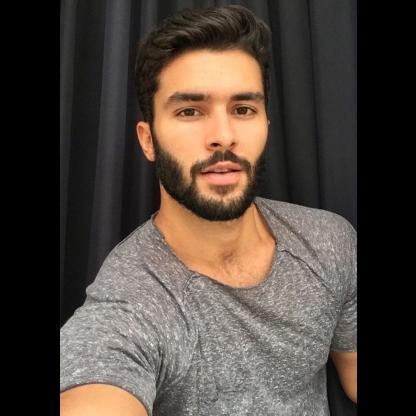Male: (138, 46, 268, 218)
